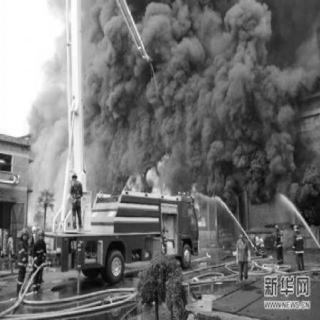Fire: (113, 148, 203, 214)
